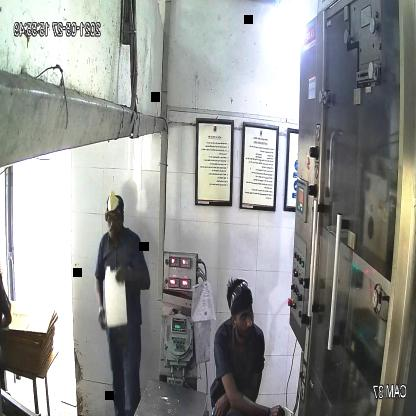no_goggles: (232, 306, 256, 326)
